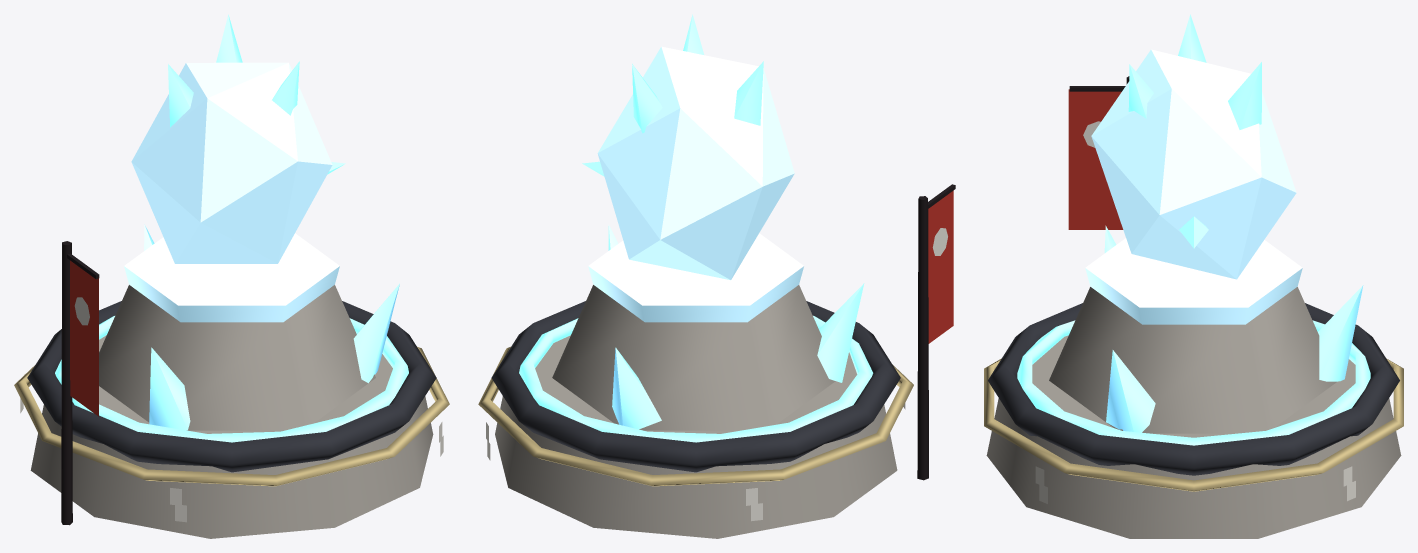
Rendered from tower_freeze_deepFrost.glb.
The picture shows the model from 3 angles, left to right: view 1: azimuth 30°, elevation 25°; view 2: azimuth 150°, elevation 25°; view 3: azimuth 270°, elevation 25°; orthographic projection.
Visible parts, largest first — view 1: ice_block, pedestal, base, base_rim, pedestal_frost, deco_shimenawa_rope, aura_ring, deco_nobori_cloth, deco_nobori_pole, side_crystal_1, side_crystal_0, block_spike_1 (+2 smaller); view 2: ice_block, pedestal, base, base_rim, pedestal_frost, deco_shimenawa_rope, aura_ring, deco_nobori_cloth, deco_nobori_pole, side_crystal_1, side_crystal_2, block_spike_1 (+1 smaller); view 3: ice_block, base, pedestal, base_rim, pedestal_frost, deco_shimenawa_rope, aura_ring, deco_nobori_cloth, side_crystal_0, side_crystal_2, block_spike_2, block_spike_0 (+2 smaller).
Boxes of the visible parts, left/top/right/bottom form: ice_block: left=131, top=62, right=332, bottom=263; pedestal: left=99, top=285, right=375, bottom=430; base: left=30, top=335, right=433, bottom=538; base_rim: left=27, top=301, right=436, bottom=472; pedestal_frost: left=124, top=233, right=339, bottom=322; deco_shimenawa_rope: left=14, top=346, right=449, bottom=486; aura_ring: left=55, top=316, right=408, bottom=442; deco_nobori_cloth: left=70, top=260, right=98, bottom=416; deco_nobori_pole: left=61, top=241, right=72, bottom=525; side_crystal_1: left=149, top=347, right=190, bottom=430; side_crystal_0: left=353, top=283, right=399, bottom=383; block_spike_1: left=168, top=64, right=193, bottom=127; ice_block: left=597, top=46, right=794, bottom=280; pedestal: left=552, top=285, right=835, bottom=430; base: left=495, top=335, right=897, bottom=538; base_rim: left=491, top=301, right=900, bottom=472; pedestal_frost: left=588, top=233, right=803, bottom=322; deco_shimenawa_rope: left=478, top=346, right=913, bottom=486; aura_ring: left=519, top=315, right=873, bottom=442; deco_nobori_cloth: left=928, top=190, right=953, bottom=343; deco_nobori_pole: left=917, top=196, right=928, bottom=480; side_crystal_1: left=817, top=283, right=864, bottom=382; side_crystal_2: left=612, top=347, right=661, bottom=429; block_spike_1: left=734, top=61, right=763, bottom=125; ice_block: left=1091, top=49, right=1296, bottom=279; base: left=986, top=335, right=1401, bottom=538; pedestal: left=1049, top=287, right=1336, bottom=433; base_rim: left=988, top=303, right=1399, bottom=475; pedestal_frost: left=1085, top=238, right=1302, bottom=324; deco_shimenawa_rope: left=984, top=358, right=1403, bottom=491; aura_ring: left=1017, top=320, right=1370, bottom=445; deco_nobori_cloth: left=1068, top=89, right=1123, bottom=229; side_crystal_0: left=1106, top=350, right=1155, bottom=432; side_crystal_2: left=1318, top=285, right=1363, bottom=381; block_spike_2: left=1228, top=62, right=1261, bottom=129; block_spike_0: left=1128, top=64, right=1153, bottom=118.
Size of the model in its own units: 0.4387 by 0.4358 by 0.4052.
